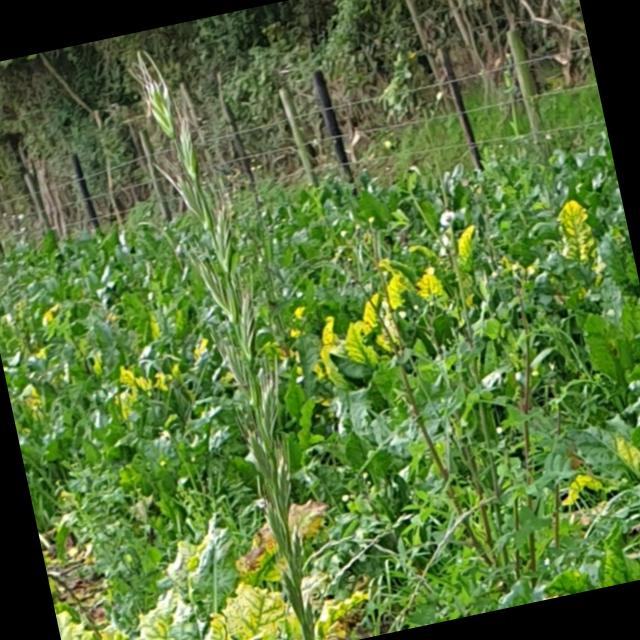Lolium: (127, 33, 335, 640)
